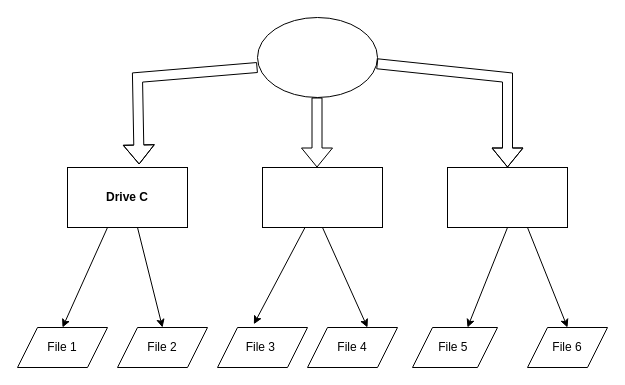
Some shapes in this 625 by 385 pixel diagram are drawn without their labels. Each missing label, with the centre of its shape:
"Drive D" goes at pixel 322 197.
"Drive E" goes at pixel 507 197.
"Root Directory" goes at pixel 317 57.
